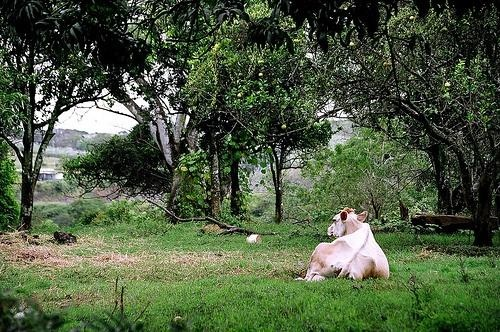cow: (302, 206, 393, 292)
